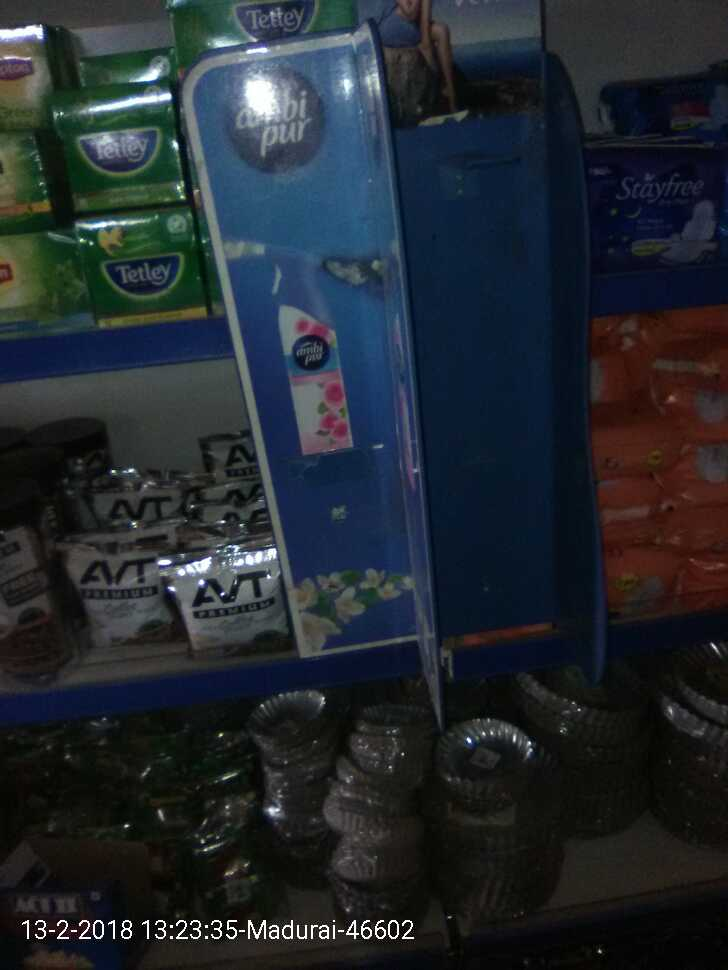reject: (337, 279, 424, 345)
